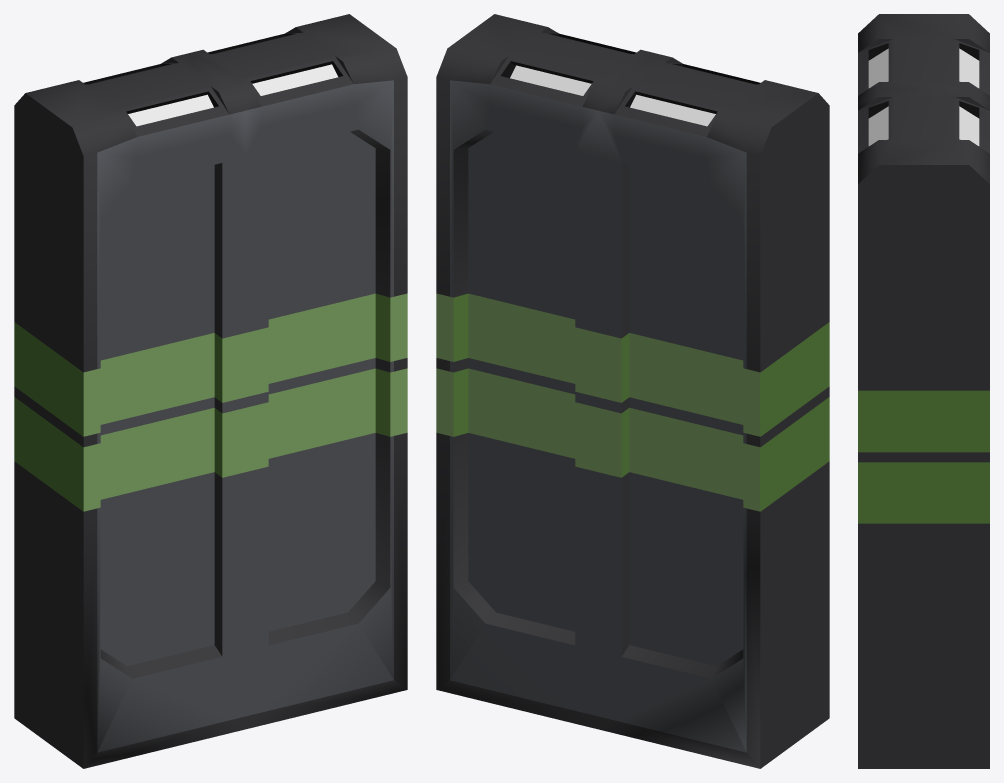
File: airlock.fbx
3 views of the same model, side by side, from view 1: azimuth 30°, elevation 25°; view 2: azimuth 150°, elevation 25°; view 3: azimuth 270°, elevation 25° (orthographic). The views are drawn at different scales.
Visible parts, largest first — view 1: AirlockStandardLeft, AirlockStandardRight, AirlockLightsRight, AirlockLightsLeft; view 2: AirlockStandardLeft, AirlockStandardRight, AirlockLightsLeft, AirlockLightsRight; view 3: AirlockStandardRight, AirlockStandardLeft, AirlockLightsRight, AirlockLightsLeft.
Boxes of the visible parts, x1,y1,x2,y2 form: AirlockStandardLeft: [14, 53, 245, 768]; AirlockStandardRight: [188, 14, 407, 729]; AirlockLightsRight: [252, 64, 337, 95]; AirlockLightsLeft: [128, 94, 213, 126]; AirlockStandardLeft: [598, 53, 829, 768]; AirlockStandardRight: [436, 14, 655, 729]; AirlockLightsLeft: [630, 94, 715, 126]; AirlockLightsRight: [510, 65, 591, 95]; AirlockStandardRight: [858, 89, 989, 768]; AirlockStandardLeft: [858, 14, 989, 102]; AirlockLightsRight: [868, 106, 979, 145]; AirlockLightsLeft: [868, 48, 979, 88].
Bounding box in the file's own units: 100 × 187 × 36.95.
